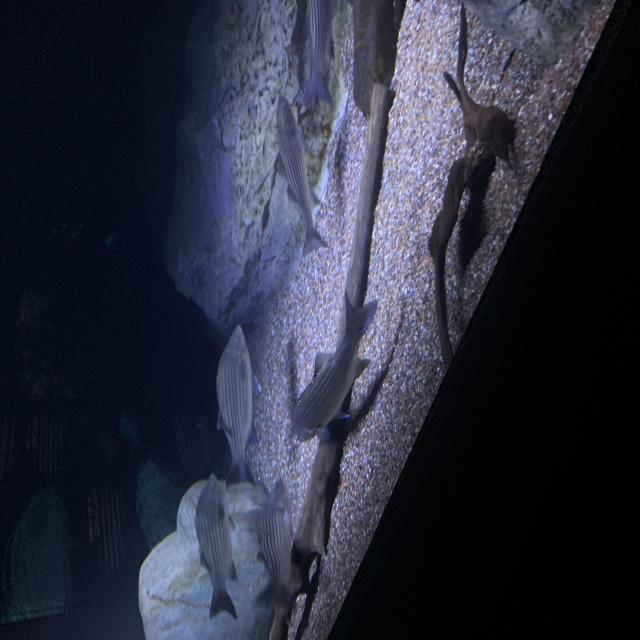fish: (288, 287, 384, 445), (272, 94, 332, 262), (192, 471, 243, 625), (213, 323, 261, 485), (253, 476, 300, 615), (299, 0, 341, 110)
